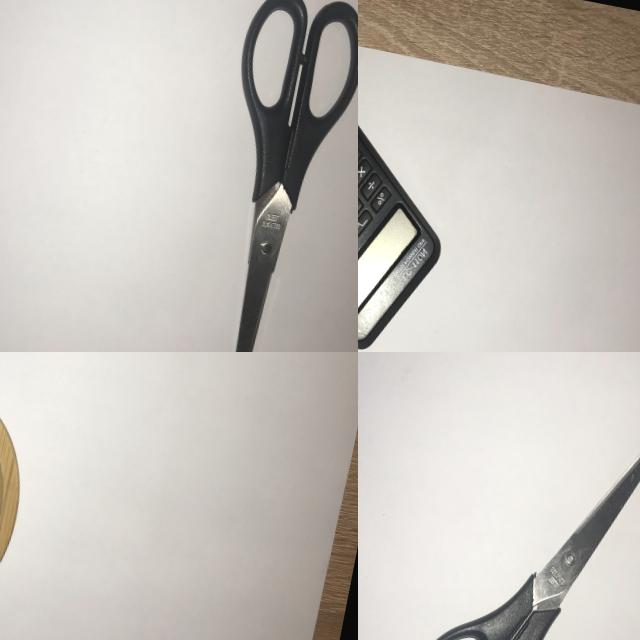calculator: (358, 83, 470, 352)
cup_holder: (0, 358, 48, 640)
scissors: (383, 366, 640, 640), (161, 0, 358, 352)
